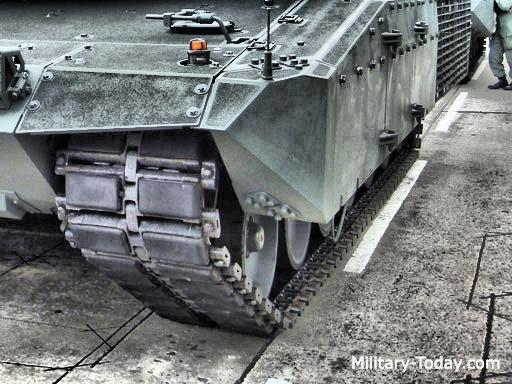tanks: (1, 1, 457, 336)
